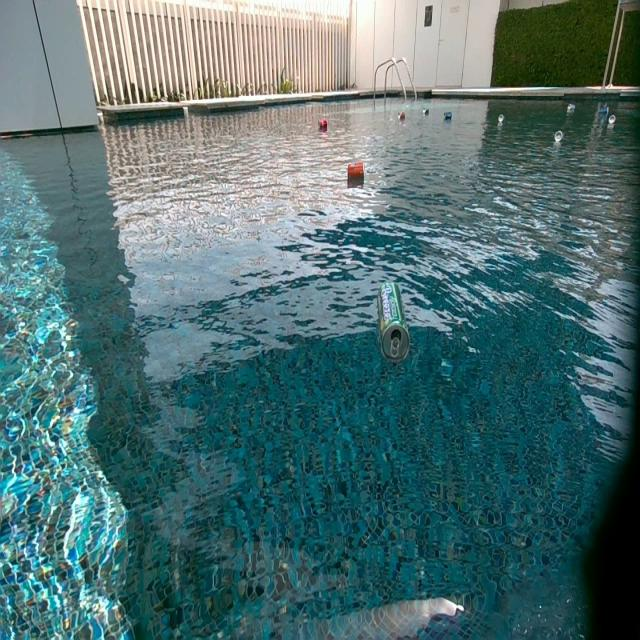Cans: (375, 278, 407, 362), (348, 163, 364, 180), (554, 129, 564, 145), (598, 103, 610, 114), (318, 117, 328, 130), (606, 114, 616, 125), (566, 103, 575, 115), (444, 110, 453, 122), (397, 110, 405, 122), (422, 106, 430, 116), (496, 114, 504, 123)
